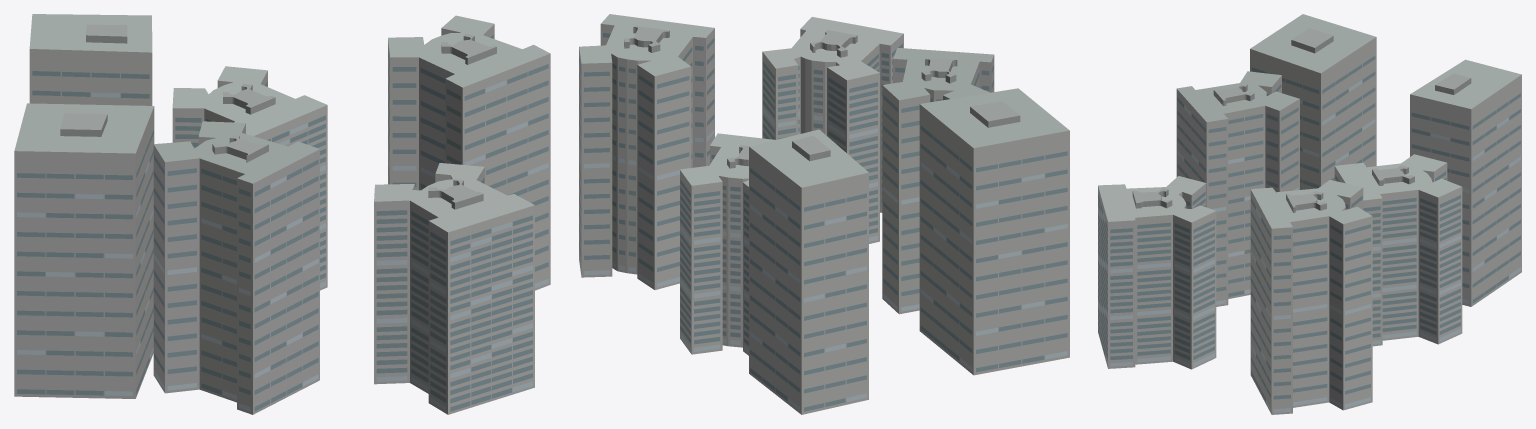
The model's file is apt-a15670001.glb.
The picture shows the model from 3 angles, left to right: view 1: azimuth 30°, elevation 25°; view 2: azimuth 150°, elevation 25°; view 3: azimuth 270°, elevation 25°; orthographic projection. The views are drawn at different scales.
Visible parts, largest first — view 1: apt-a15670001; view 2: apt-a15670001; view 3: apt-a15670001.
Part boxes in pixels (left/top/right/bottom): apt-a15670001: left=14, top=14, right=550, bottom=414; apt-a15670001: left=579, top=14, right=1069, bottom=414; apt-a15670001: left=1098, top=14, right=1521, bottom=414.
Size of the model in its own units: 189 by 88 by 166.
